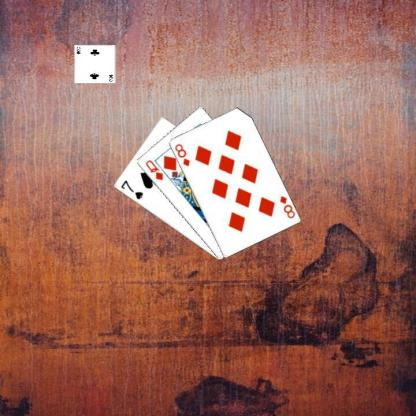7S: (118, 178, 144, 200)
8D: (172, 141, 191, 168), (277, 193, 296, 220)
QD: (143, 157, 164, 182)
